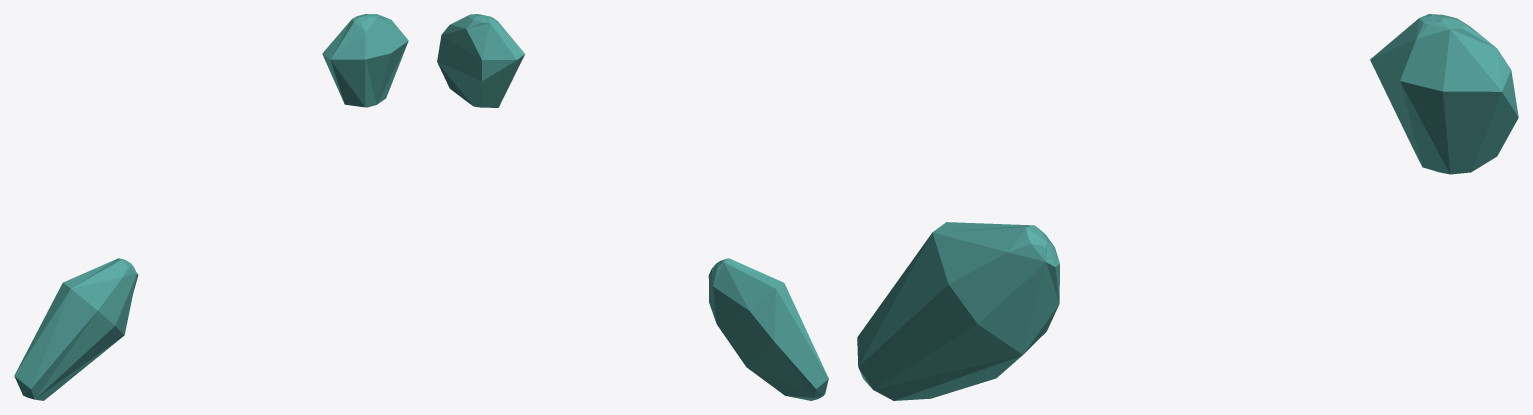
File: Wall1.fbx
3 renders of one model, left to right at view 1: azimuth 30°, elevation 25°; view 2: azimuth 150°, elevation 25°; view 3: azimuth 330°, elevation 25°, orthographic. The views are drawn at different scales.
Visible parts, largest first — view 1: pSphere2, pSphere1; view 2: pSphere2, pSphere1; view 3: pSphere2, pSphere1.
Part boxes in pixels (bbox=[...]): pSphere2: bbox=[14, 258, 138, 400]; pSphere1: bbox=[322, 14, 408, 107]; pSphere2: bbox=[708, 258, 828, 400]; pSphere1: bbox=[437, 14, 524, 107]; pSphere2: bbox=[857, 222, 1059, 400]; pSphere1: bbox=[1370, 14, 1518, 174].
Size of the model in its own units: 16.02 by 11.96 by 1.84.
